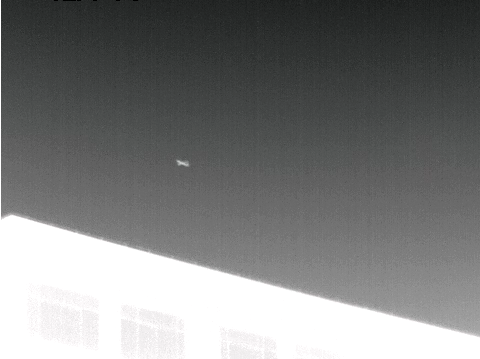dim target: (176, 159, 189, 168)
